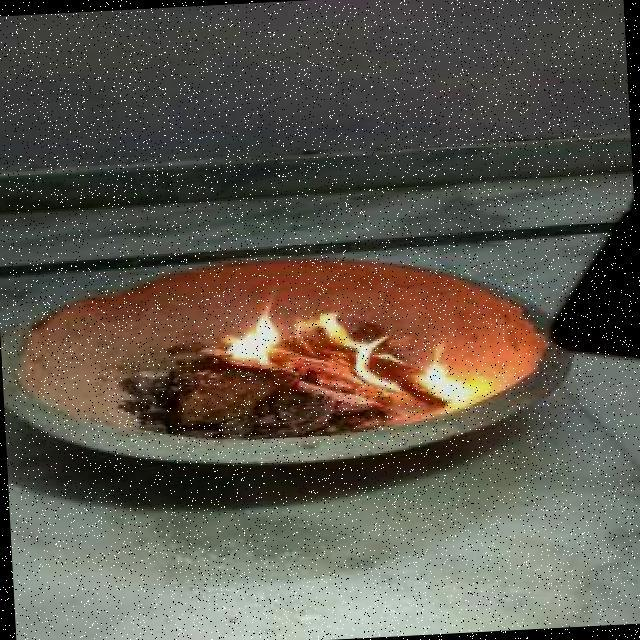Fire: (199, 290, 295, 373), (306, 307, 392, 389), (412, 336, 485, 408)
